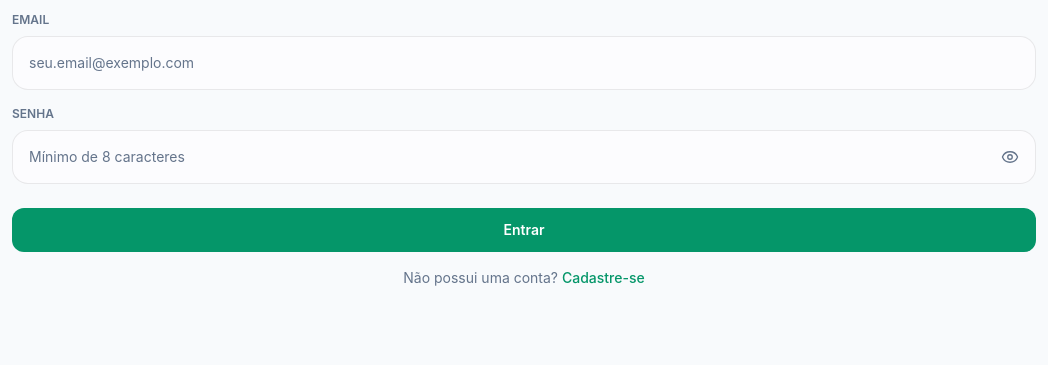
Test case: LoginForm › exibe uma mensagem genérica para login 401
Type "user@example.test" into the field labelled "Email". click: (524, 63)
box: top-left (29, 53), bottom-right (1019, 73)
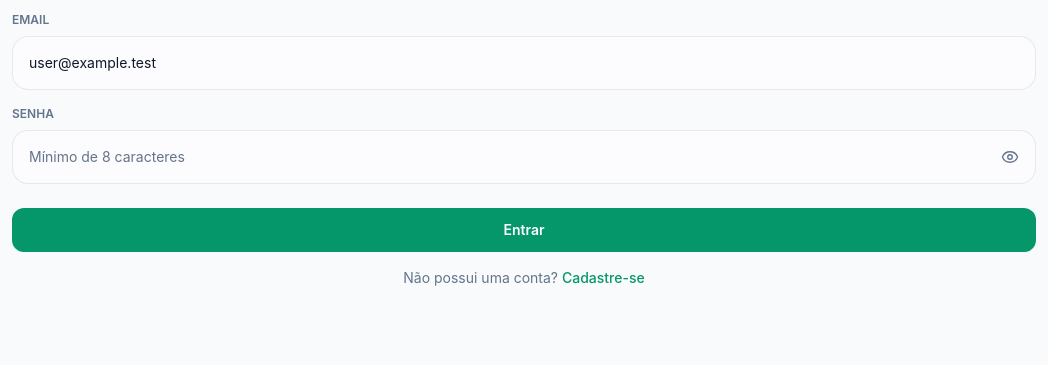
Type "password123" into the password field labelled "Senha". click: (509, 157)
box: top-left (29, 147), bottom-right (989, 167)
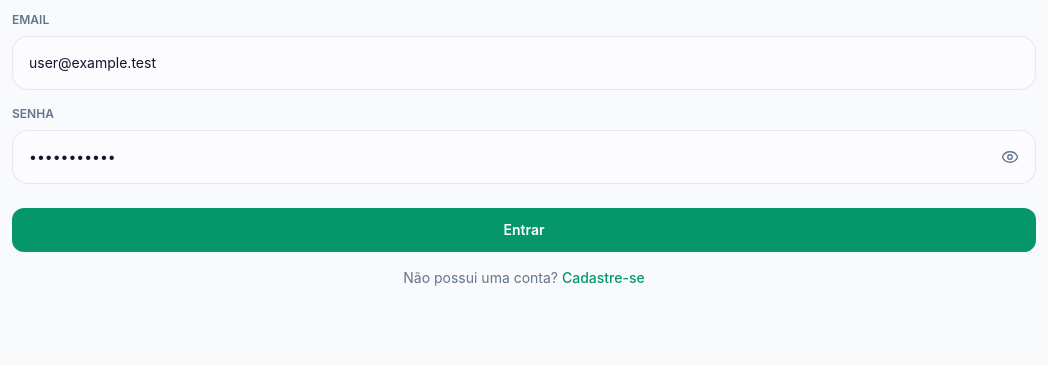
Click the button "Entrar". click: (524, 230)
box: top-left (12, 208), bottom-right (1036, 252)
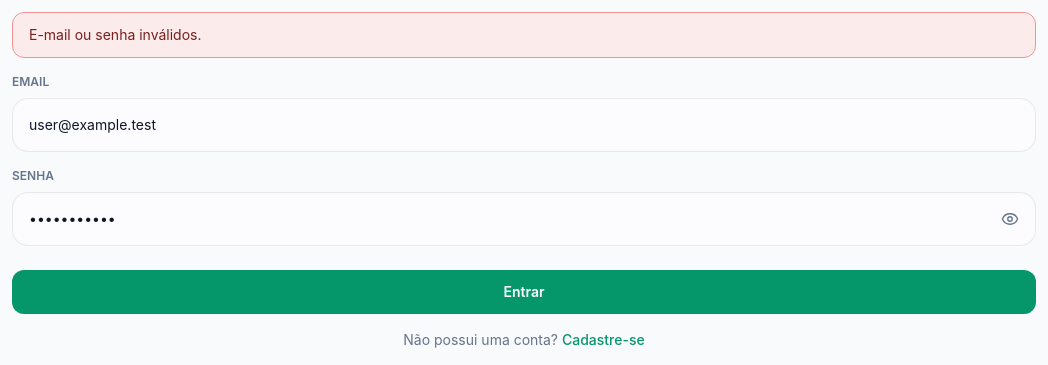
Expected: the text "E-mail ou senha inválidos." is shown, top-left (12, 12), bottom-right (1036, 58)
